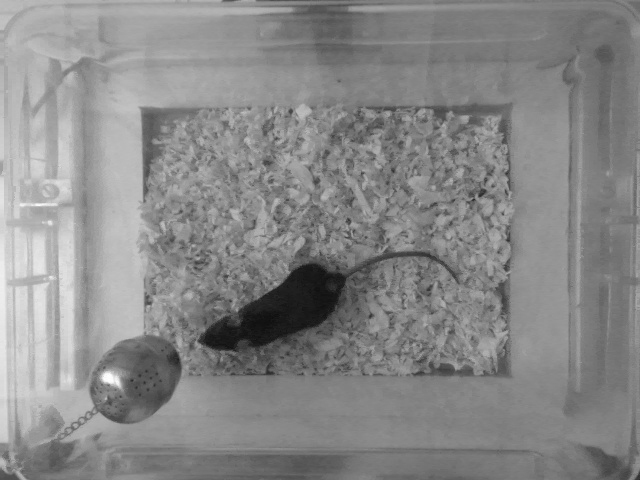mice: (195, 249, 462, 355)
